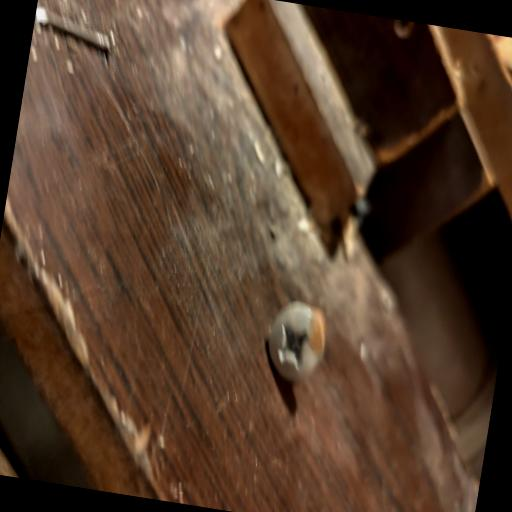Phillips: (258, 275, 340, 404)
